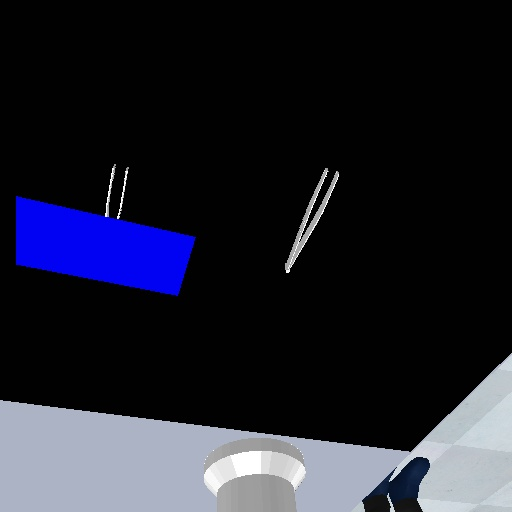pinza: (280, 162, 342, 276), (101, 161, 133, 221)
